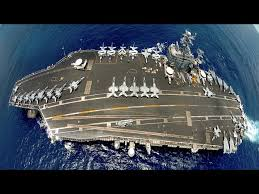Ship: (10, 43, 245, 150)
